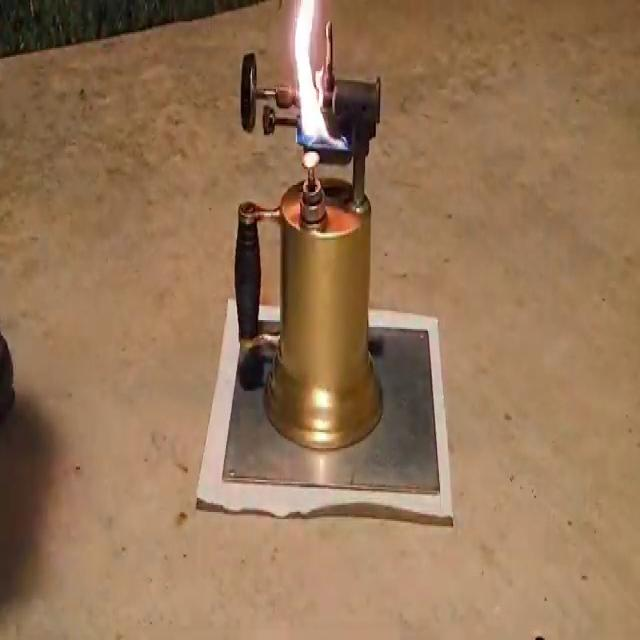fire: (286, 0, 345, 165)
